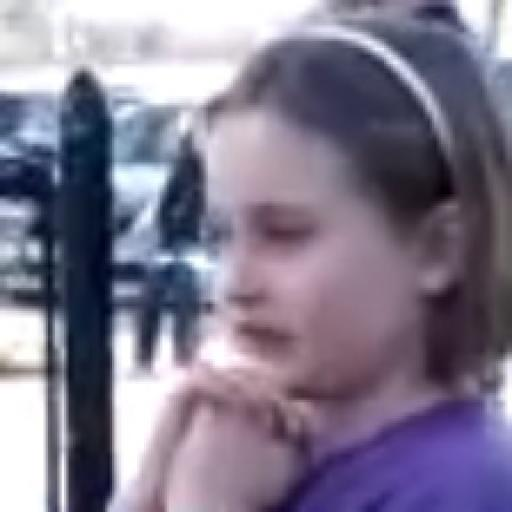Autism: (166, 34, 512, 444)
